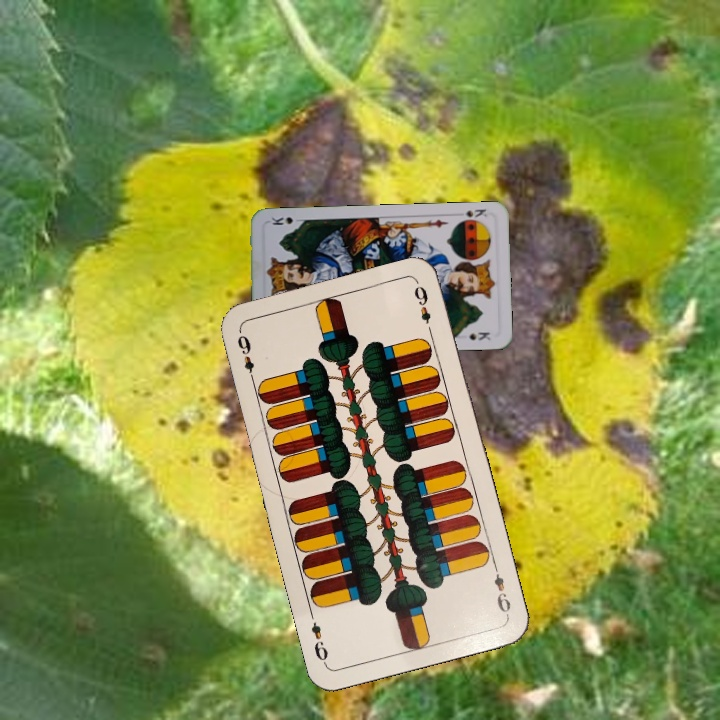E9: (233, 327, 258, 385), (489, 560, 513, 619)
SK: (461, 205, 489, 220)
